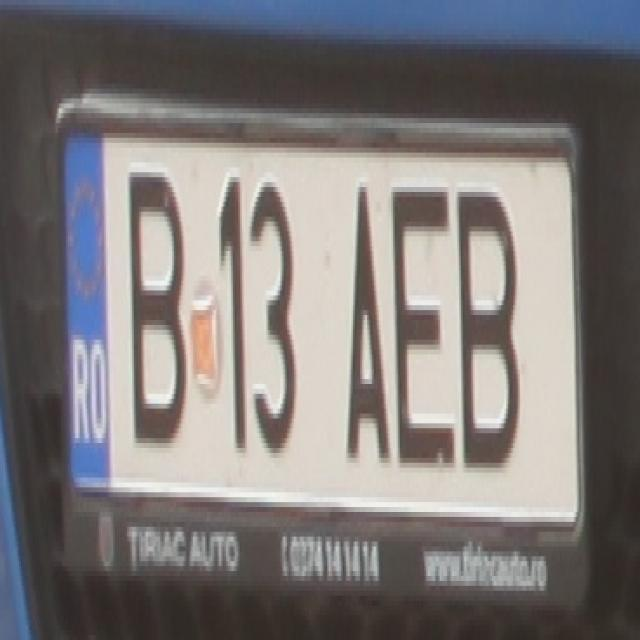1: (212, 157, 249, 453)
3: (250, 167, 300, 458)
A: (343, 172, 391, 463)
B: (457, 187, 527, 473), (124, 158, 186, 448)
E: (388, 162, 454, 482)
